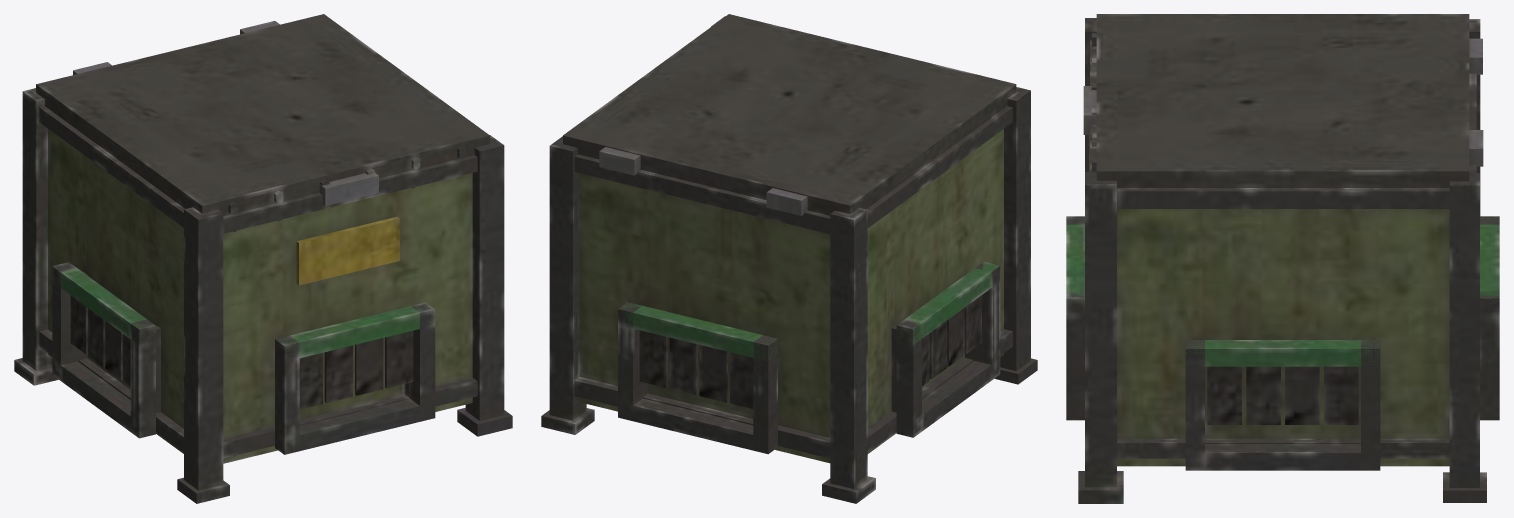
Rendered from feBeltCrate.glb.
The picture shows the model from 3 angles, left to right: view 1: azimuth 30°, elevation 25°; view 2: azimuth 150°, elevation 25°; view 3: azimuth 270°, elevation 25°; orthographic projection. The views are drawn at different scales.
Parts seen in each view (by area): view 1: feBeltCrate_Base; view 2: feBeltCrate_Base; view 3: feBeltCrate_Base.
Part boxes in pixels (box(x1,y1,x2,y2)): feBeltCrate_Base: box(14, 14, 512, 503); feBeltCrate_Base: box(541, 14, 1037, 503); feBeltCrate_Base: box(1066, 14, 1499, 503).
Bounding box in the file's own units: 1 × 0.8274 × 1.
Materials: 1 (1 with a texture image).
